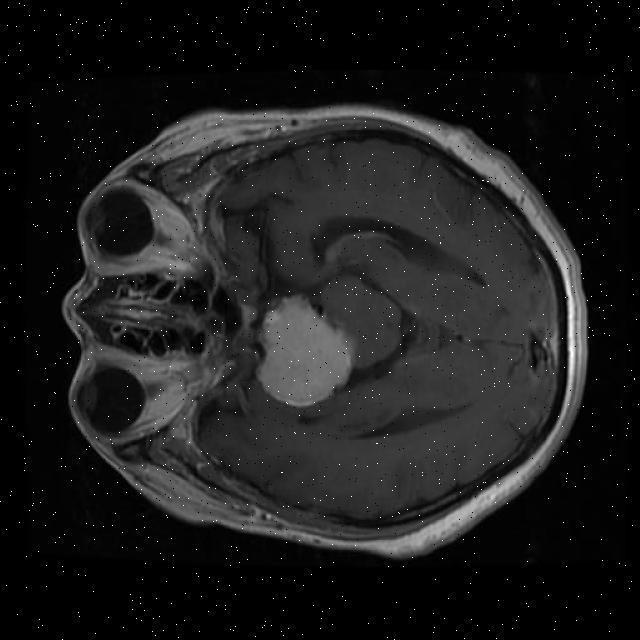Meningioma: (257, 295, 353, 406)
